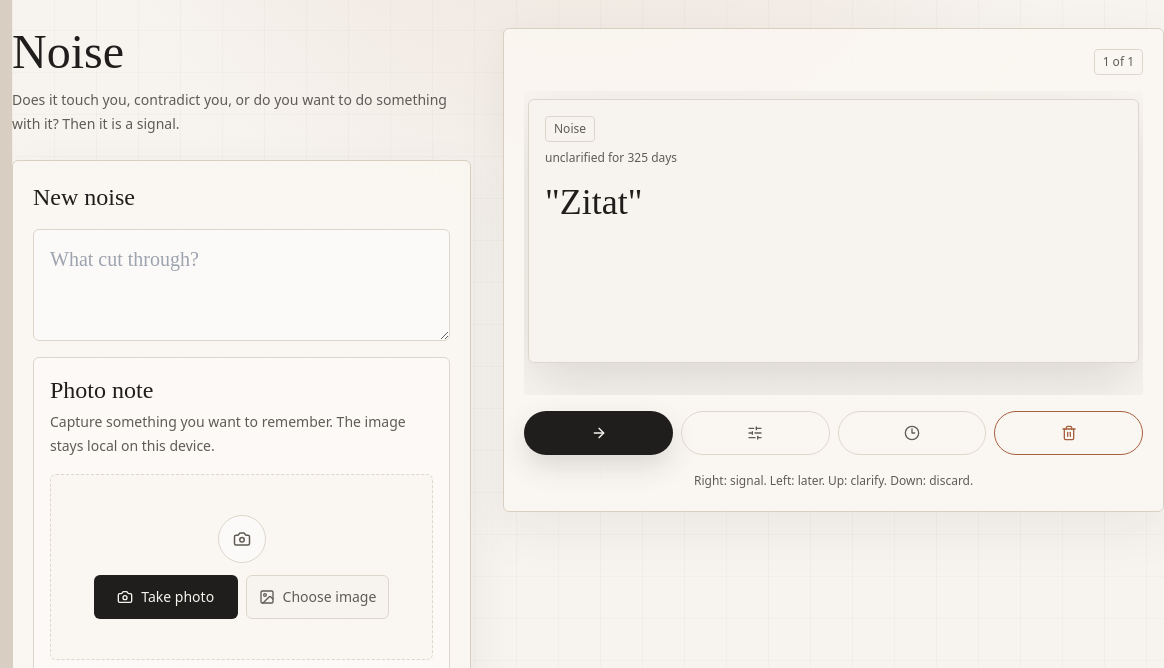
Scenario: InboxPage › Details › zeigt das Buch-Feld sofort, sobald Bücher vorhanden sind
The image size is (1164, 668).
Expected: the text "\"Zitat\"" is shown, [545, 182, 643, 222]
Click the button named "Clarify" at (755, 433), box [681, 411, 830, 455]
(page scrolled)
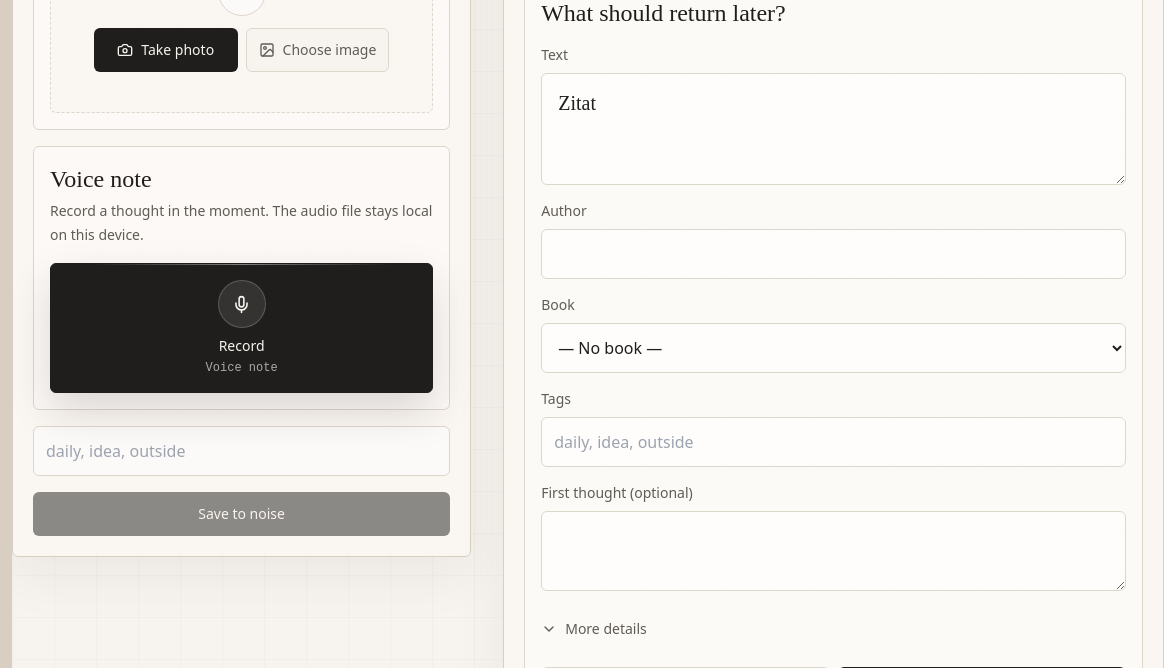
Expected: the dropdown labelled "Book" is shown, [541, 323, 1126, 373]
